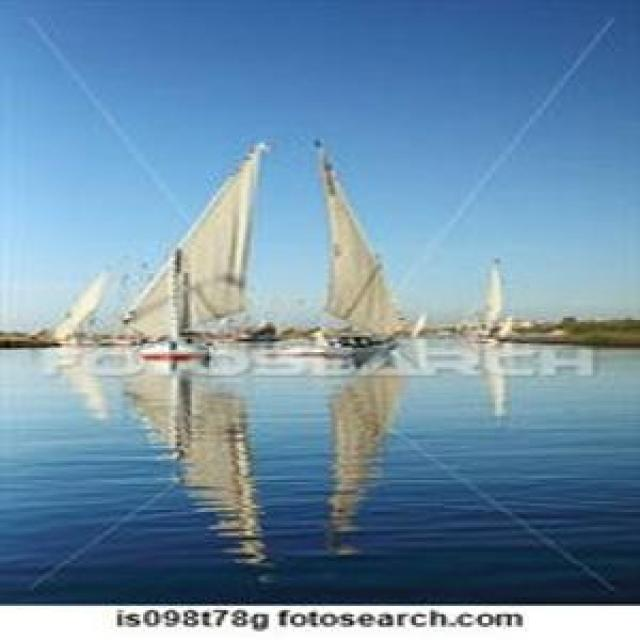sailboat: (107, 158, 269, 374), (296, 143, 420, 353)
